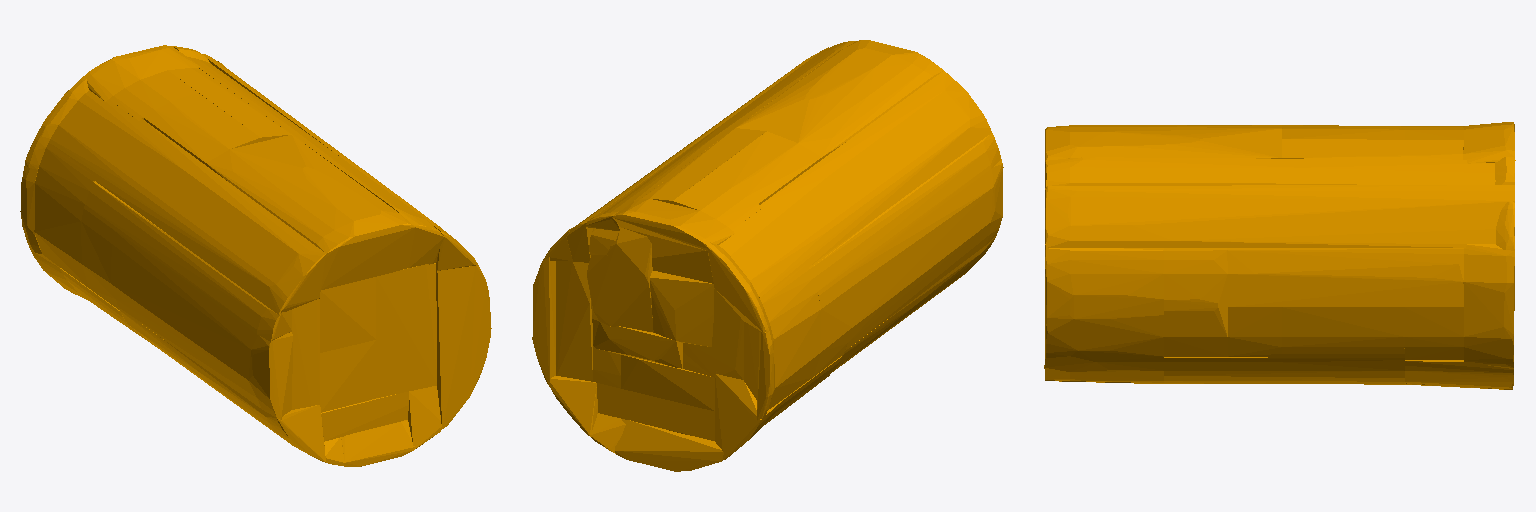
The robot description file, URDF, robot "can-olive":
<?xml version="1.0" ?>
<robot name="can-olive">
  <link name="baseLink">
    <contact>
      <lateral_friction value="1.0"/>
      <inertia_scaling value="3.0"/>
    </contact>
    <inertial>
      <origin rpy="0 0 0" xyz="0.000 0.000 0.000"/>
       <mass value=".1"/>
       <inertia ixx="1" ixy="0.0" ixz="0.0" iyy="1" iyz="0.0" izz="1"/>
    </inertial>
    <visual>
      <origin rpy="0 0 0" xyz="0 0 0"/>
      <geometry>
        <mesh filename="can/can-olive_anchois.obj" scale="1.0 1.0 1.0"/>
      </geometry>
    </visual>
    <collision>
      <origin rpy="0 0 0" xyz="0 0 0"/>
      <geometry>
        <mesh filename="../collision/can/can-olive_anchois.obj" scale="1.0 1.0 1.0"/>
      </geometry>
    </collision>
  </link>
</robot>
        

--- Render facts (derived) ---
The picture shows the robot from 3 angles, left to right: view 1: azimuth 30°, elevation 25°; view 2: azimuth 150°, elevation 25°; view 3: azimuth 270°, elevation 25°; orthographic projection.
Robot: can-olive — 1 links, 0 joints (none); root link baseLink; default pose: every joint at zero.
Visible links, largest first — view 1: baseLink; view 2: baseLink; view 3: baseLink.
Link boxes in pixels (left/top/right/bottom): baseLink: left=20, top=45, right=491, bottom=466; baseLink: left=532, top=40, right=1003, bottom=471; baseLink: left=1044, top=122, right=1515, bottom=389.
Size in the robot's own frame: 0.0664 by 0.1184 by 0.066 metres.
Meshes: 1 distinct files referenced, 1 mesh visuals loaded (1 OBJ).